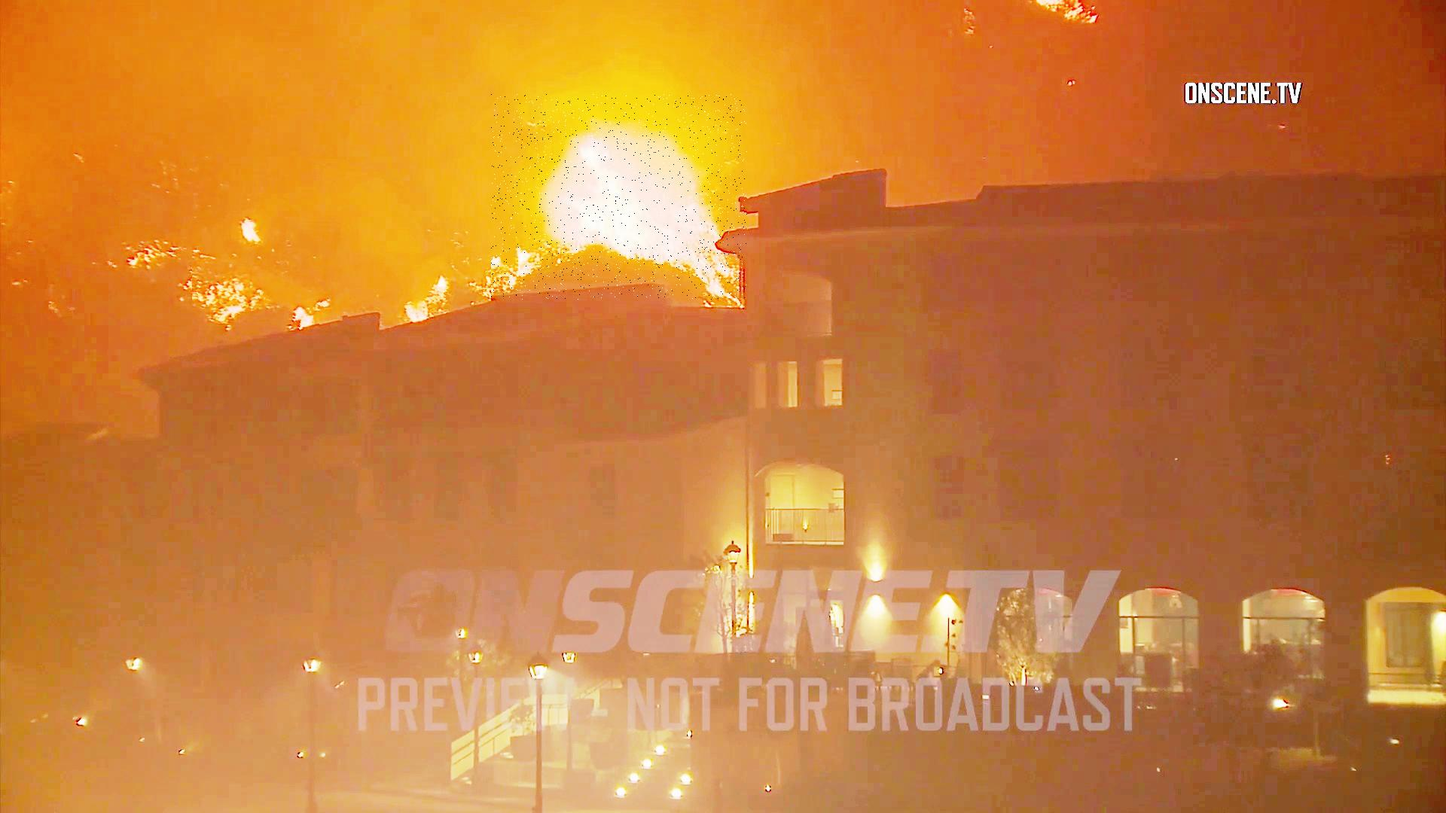fire: (492, 94, 748, 300), (193, 220, 349, 338)
